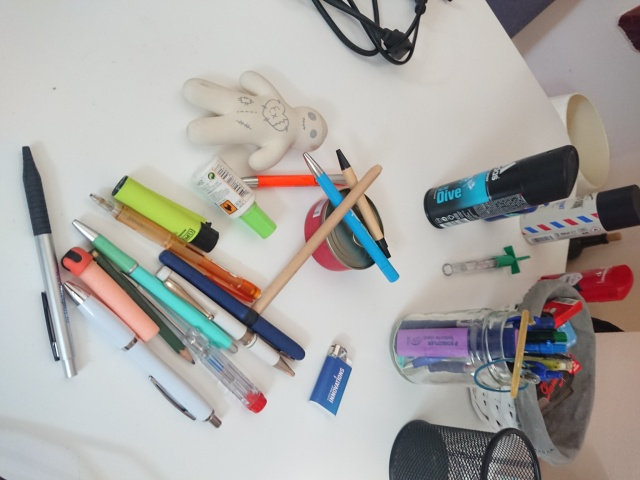Gavrilovic Pork Liver Pate 100g: (302, 185, 386, 273)
